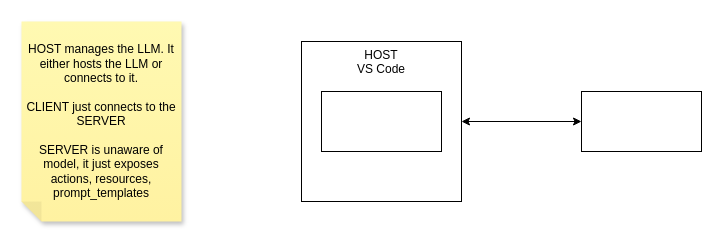
This 719x245 diagram has some shape labels left out. Here are the shapes that lost their labels. From the top down, the centre of each, then its label:
At point (381, 121): "CLIENT GitHub Copilot".
At point (641, 121): "SERVER".
